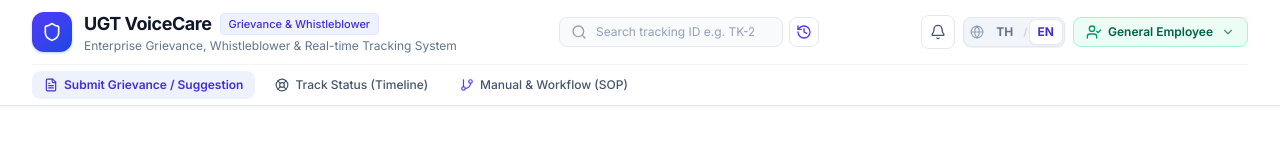
Test: Navbar › bilingual chrome › titles the language buttons and the clear-search button in English
This screenshot has width=1280, height=160.
Type "TK-1" into the field with id "global-tracking-search" at (671,32), box [559,17,783,47]
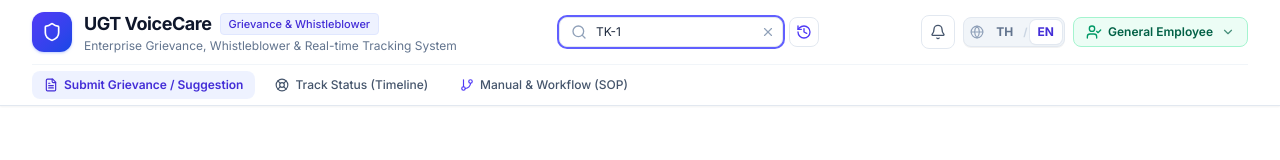
Now the button titled "Clear search" is shown, box [761,25,775,39]
